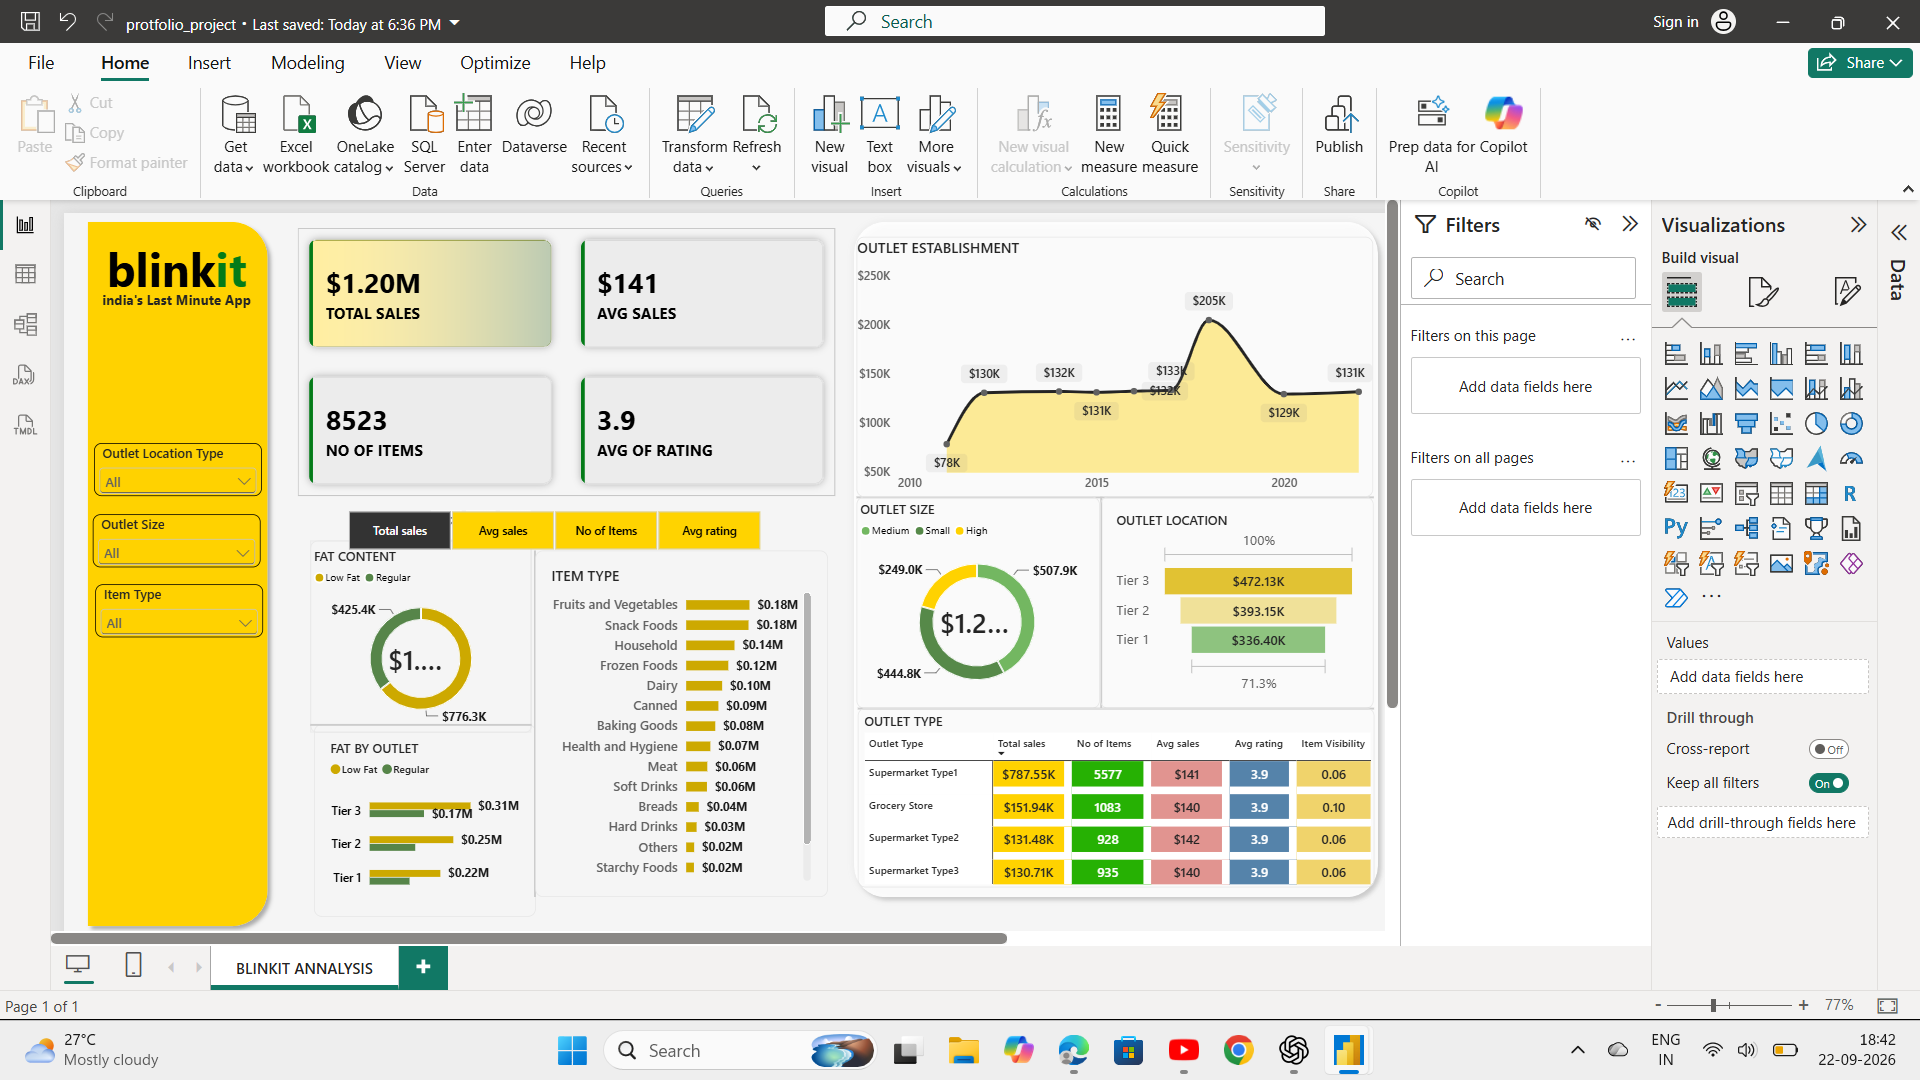

The dashboard page shown, as its layout file describes it:
{"tool":"powerbi","page":{"name":"BLINKIT ANNALYSIS","canvas":[1920,1080],"ordinal":0},"visuals":[{"type":"shape","box":[15,0,205,750],"z":0},{"type":"textbox","box":[25,25,185,108.8],"z":1000},{"type":"textbox","box":[25,80,185,53.8],"z":2000},{"type":"cardVisual","fields":{"Data":["BlinkIT Grocery Data.Total sales","BlinkIT Grocery Data.Average sales","BlinkIT Grocery Data.No of Items","BlinkIT Grocery Data.Average of rating"]},"box":[242.9,15.1,559.9,279.9],"z":3000},{"type":"shape","box":[811.2,0,562.5,720],"z":4000},{"type":"donutChart","title":"FAT CONTENT","fields":{"Category":["BlinkIT Grocery Data.Item Fat Content"],"Y":["BlinkIT Grocery Data.Total sales"]},"box":[256.2,340,230,200],"z":5000},{"type":"slicer","fields":{"Values":["Metrics.Metrics"]},"box":[275.1,307.6,466.9,43.4],"z":6000},{"type":"clusteredBarChart","title":"FAT BY OUTLET ","fields":{"Category":["BlinkIT Grocery Data.Outlet Location Type"],"Series":["BlinkIT Grocery Data.Item Fat Content"],"Y":["BlinkIT Grocery Data.Total sales"]},"box":[259.5,531.1,230,200],"z":7000},{"type":"shape","box":[256.2,515,230,32.5],"z":8000},{"type":"shape","box":[465,351.2,48.8,360],"z":9000},{"type":"barChart","title":"ITEM TYPE","fields":{"Category":["BlinkIT Grocery Data.Item Type"],"Y":["BlinkIT Grocery Data.Total sales"]},"box":[490,351.2,303.8,360],"z":10000},{"type":"shape","box":[823.8,277.5,537.5,35],"z":11000},{"type":"lineChart","title":"OUTLET ESTABLISHMENT","fields":{"Category":["BlinkIT Grocery Data.Outlet Establishment Year"],"Y":["BlinkIT Grocery Data.Total sales"]},"box":[823.8,25,537,270],"z":12000},{"type":"donutChart","title":"OUTLET SIZE","fields":{"Category":["BlinkIT Grocery Data.Outlet Size"],"Y":["BlinkIT Grocery Data.Total sales"]},"box":[823.8,295,252.5,220],"z":13000},{"type":"shape","box":[1052.7,294.6,48.8,220],"z":14000},{"type":"funnel","title":"OUTLET LOCATION","fields":{"Category":["BlinkIT Grocery Data.Outlet Location Type"],"Y":["BlinkIT Grocery Data.Total sales"]},"box":[1077,294.6,283.8,220.3],"z":14001},{"type":"shape","box":[824.3,498.6,536.5,32.4],"z":14002},{"type":"pivotTable","title":"OUTLET TYPE","fields":{"Rows":["BlinkIT Grocery Data.Outlet Type"],"Values":["BlinkIT Grocery Data.Total sales","BlinkIT Grocery Data.No of Items","BlinkIT Grocery Data.Avg sales","BlinkIT Grocery Data.Avg rating","Avg(BlinkIT Grocery Data.Item Visibility)"]},"box":[824.3,514.9,536.5,186.5],"z":14003},{"type":"slicer","fields":{"Values":["BlinkIT Grocery Data.Outlet Location Type"]},"box":[31.1,239.2,174.3,55.4],"z":14004},{"type":"slicer","fields":{"Values":["BlinkIT Grocery Data.Outlet Size"]},"box":[29.7,313.5,174.3,55.4],"z":14005},{"type":"slicer","fields":{"Values":["BlinkIT Grocery Data.Item Type"]},"box":[32.4,385.1,174.3,55.4],"z":14006}]}

Visuals, with their boxes on the page's 1920x1080 design canvas (x1, y1, x2, y2). These are canvas units, not pixel positions in the 1920x1080 screenshot, which may show the page scaled, cropped or inside an application window:
shape: <region>15, 0, 220, 750</region>
textbox: <region>25, 25, 210, 134</region>
textbox: <region>25, 80, 210, 134</region>
cardVisual - BlinkIT Grocery Data.Total sales x BlinkIT Grocery Data.Average sales: <region>243, 15, 803, 295</region>
shape: <region>811, 0, 1374, 720</region>
"FAT CONTENT" donutChart: <region>256, 340, 486, 540</region>
slicer - Metrics.Metrics: <region>275, 308, 742, 351</region>
"FAT BY OUTLET " clusteredBarChart: <region>260, 531, 490, 731</region>
shape: <region>256, 515, 486, 548</region>
shape: <region>465, 351, 514, 711</region>
"ITEM TYPE" barChart: <region>490, 351, 794, 711</region>
shape: <region>824, 278, 1361, 312</region>
"OUTLET ESTABLISHMENT" lineChart: <region>824, 25, 1361, 295</region>
"OUTLET SIZE" donutChart: <region>824, 295, 1076, 515</region>
shape: <region>1053, 295, 1102, 515</region>
"OUTLET LOCATION" funnel: <region>1077, 295, 1361, 515</region>
shape: <region>824, 499, 1361, 531</region>
"OUTLET TYPE" pivotTable: <region>824, 515, 1361, 701</region>
slicer - BlinkIT Grocery Data.Outlet Location Type: <region>31, 239, 205, 295</region>
slicer - BlinkIT Grocery Data.Outlet Size: <region>30, 314, 204, 369</region>
slicer - BlinkIT Grocery Data.Item Type: <region>32, 385, 207, 440</region>
